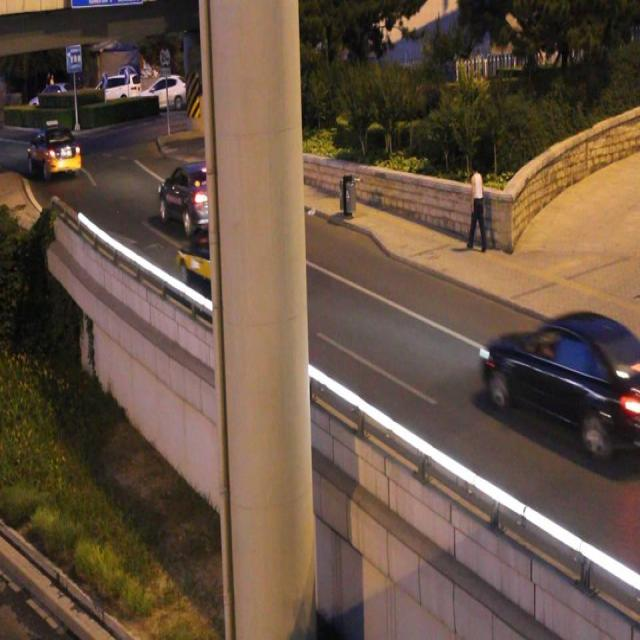car: (482, 314, 640, 445), (159, 167, 220, 230), (180, 236, 243, 293), (28, 127, 80, 175)
